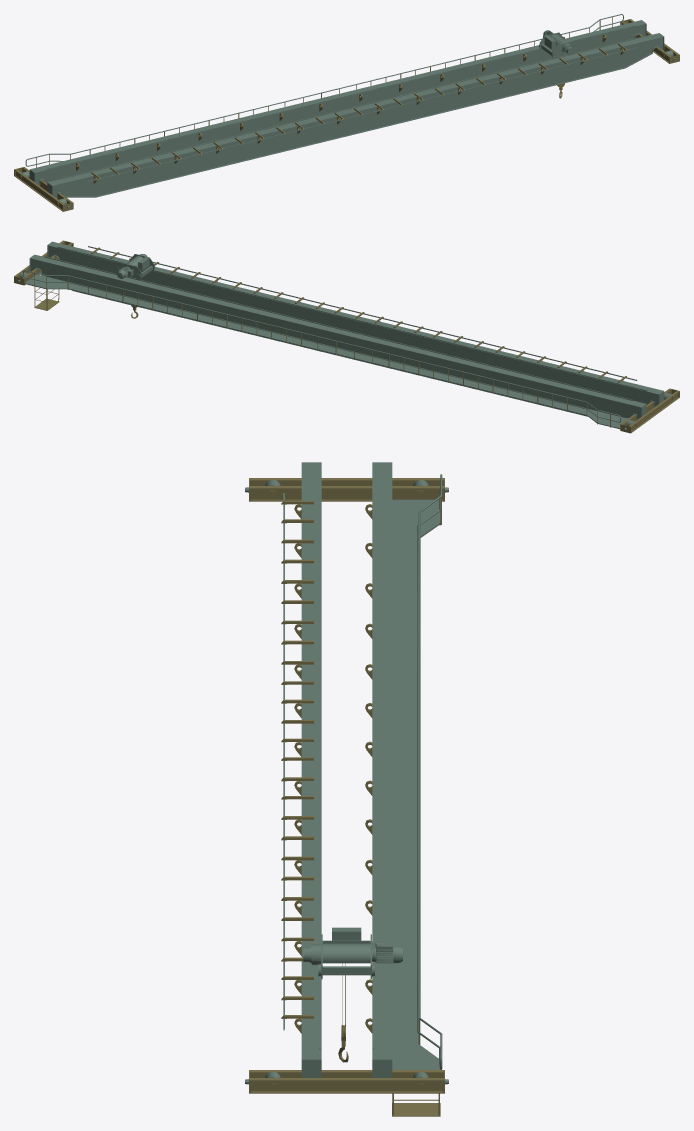
The model's file is SM05_Industrial_OverheadCrane_01.fbx.
The picture shows the model from 3 angles, top to bottom: view 1: azimuth 30°, elevation 25°; view 2: azimuth 150°, elevation 25°; view 3: azimuth 270°, elevation 25°; orthographic projection. The views are drawn at different scales.
Visible parts, largest first — view 1: SM05_Industrial_OverheadCrane_01, SM05_Industrial_OverheadCrane_01_Hoist; view 2: SM05_Industrial_OverheadCrane_01, SM05_Industrial_OverheadCrane_01_Hoist; view 3: SM05_Industrial_OverheadCrane_01, SM05_Industrial_OverheadCrane_01_Hoist.
Part boxes in pixels (x1,y1,x2,y2): SM05_Industrial_OverheadCrane_01: (14, 14, 679, 211); SM05_Industrial_OverheadCrane_01_Hoist: (539, 30, 577, 58); SM05_Industrial_OverheadCrane_01: (14, 240, 679, 433); SM05_Industrial_OverheadCrane_01_Hoist: (116, 254, 155, 280); SM05_Industrial_OverheadCrane_01: (245, 462, 448, 1116); SM05_Industrial_OverheadCrane_01_Hoist: (303, 927, 402, 979).
Size of the model in its own units: 2800 by 267 by 401.
